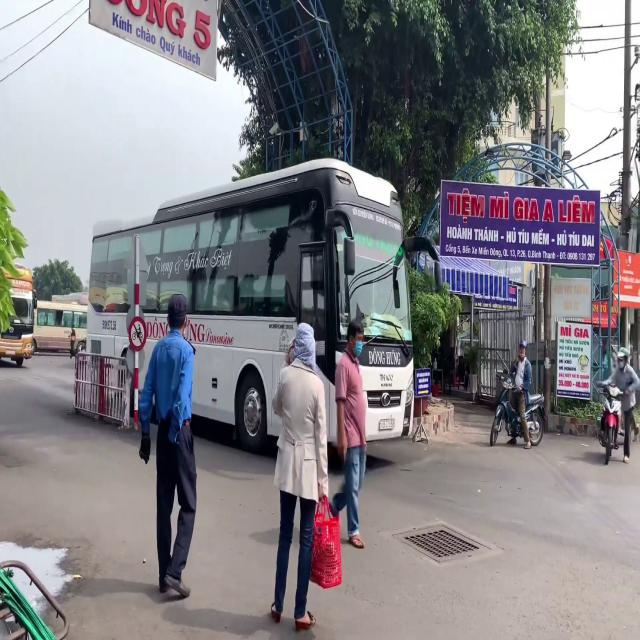bien_trang: (378, 419, 395, 430)
